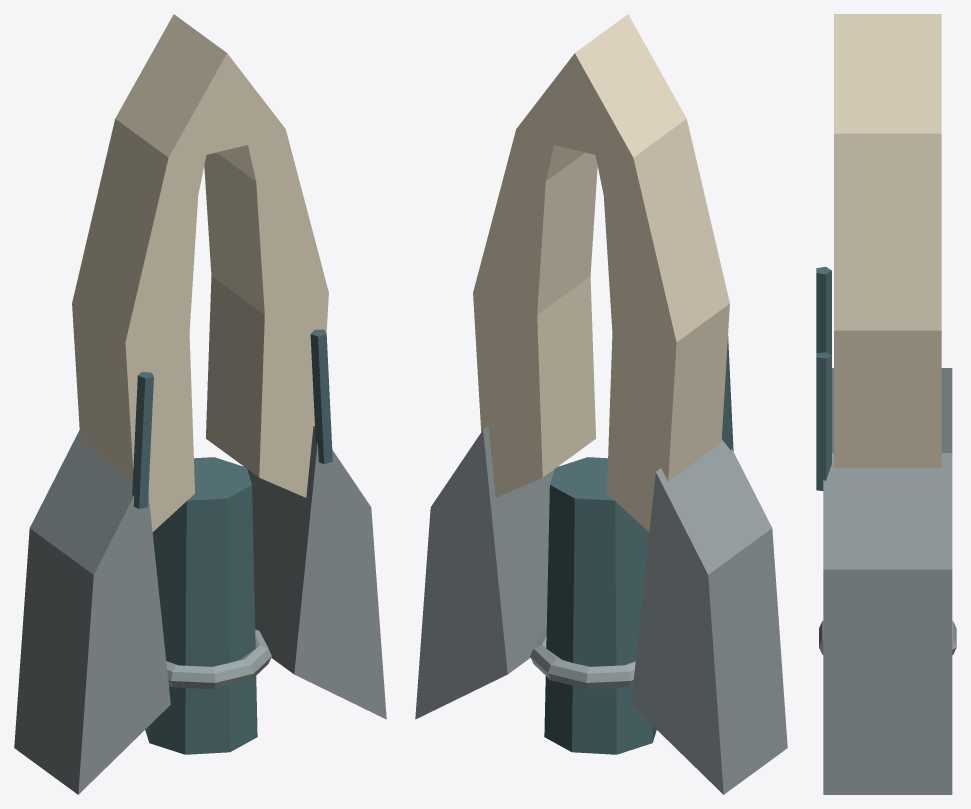
Rendered from marker_ammo_marrow.glb.
3 renders of one model, left to right at view 1: azimuth 30°, elevation 25°; view 2: azimuth 150°, elevation 25°; view 3: azimuth 270°, elevation 25°, orthographic.
Parts seen in each view (by area): view 1: marker_ammo_marrow_bone, marker_ammo_marrow_steel, marker_ammo_marrow_iron; view 2: marker_ammo_marrow_bone, marker_ammo_marrow_steel, marker_ammo_marrow_iron; view 3: marker_ammo_marrow_bone, marker_ammo_marrow_steel, marker_ammo_marrow_iron.
Part boxes in pixels (x1,y1,x2,y2): marker_ammo_marrow_bone: (72, 14, 328, 531); marker_ammo_marrow_steel: (14, 426, 386, 794); marker_ammo_marrow_iron: (132, 329, 332, 754); marker_ammo_marrow_bone: (473, 14, 729, 531); marker_ammo_marrow_steel: (415, 426, 787, 794); marker_ammo_marrow_iron: (544, 336, 733, 754); marker_ammo_marrow_bone: (834, 14, 941, 468); marker_ammo_marrow_steel: (819, 368, 956, 794); marker_ammo_marrow_iron: (816, 266, 831, 490).
Size of the model in its own units: 0.5 by 1.09 by 0.1958.
